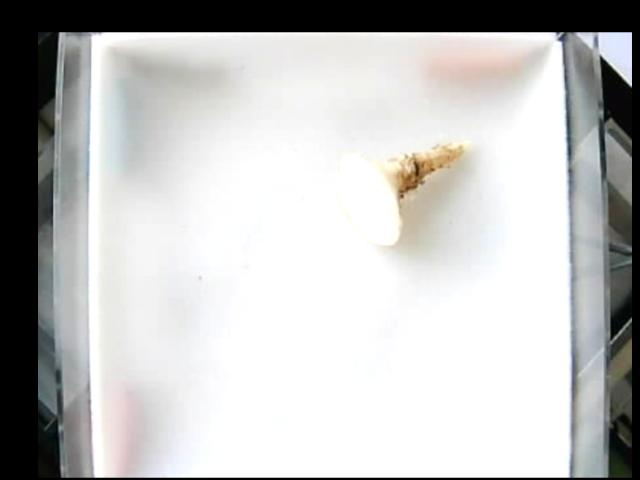Mooli: (336, 139, 472, 248)
